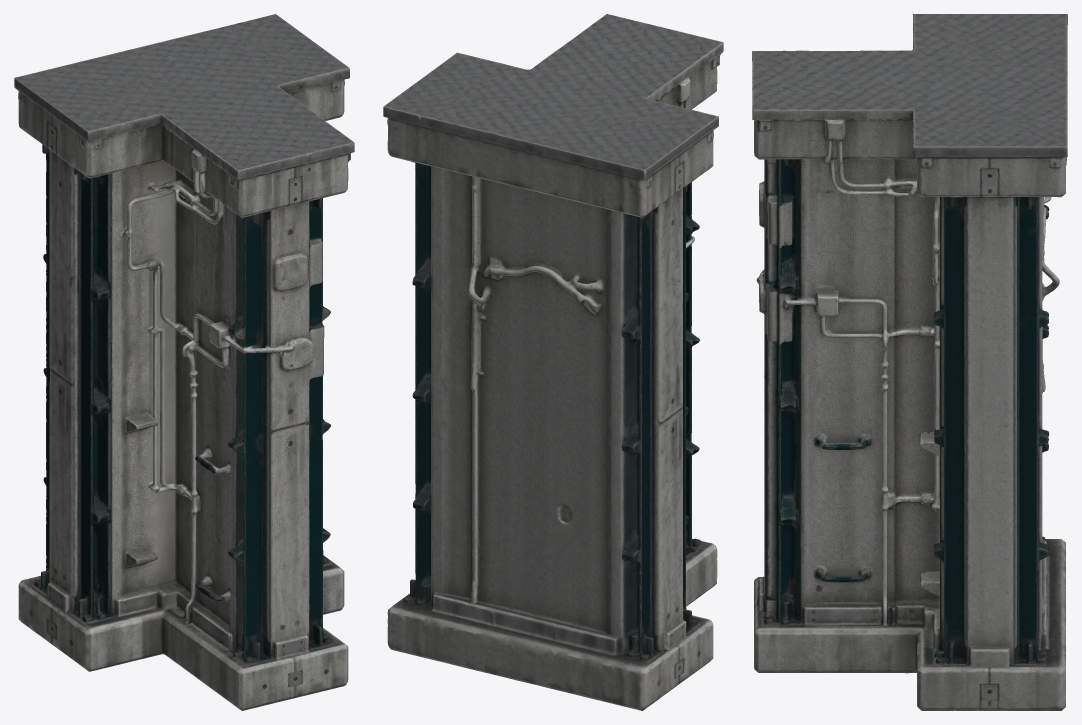
File: architectural_corner_pillar_module.glb
3 renders of one model, left to right at view 1: azimuth 30°, elevation 25°; view 2: azimuth 150°, elevation 25°; view 3: azimuth 270°, elevation 25°, orthographic. The views are drawn at different scales.
Size of the model in its own units: 0.9575 by 1.9 by 0.9589.
Materials: 1 (1 with a texture image).
